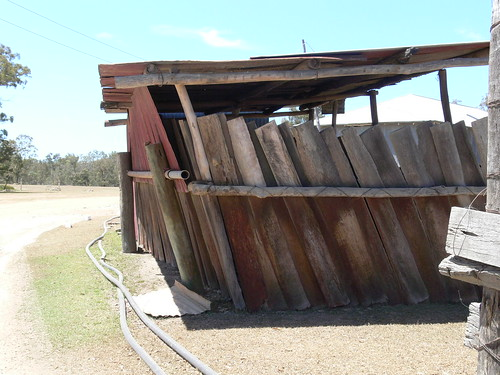building: (92, 47, 488, 307)
sky: (1, 1, 479, 61), (10, 1, 116, 146)
street: (1, 190, 121, 375)
